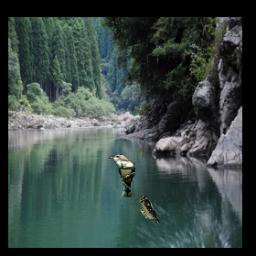Cuckoo: (108, 154, 135, 197)
Woodpecker: (138, 194, 160, 224)
